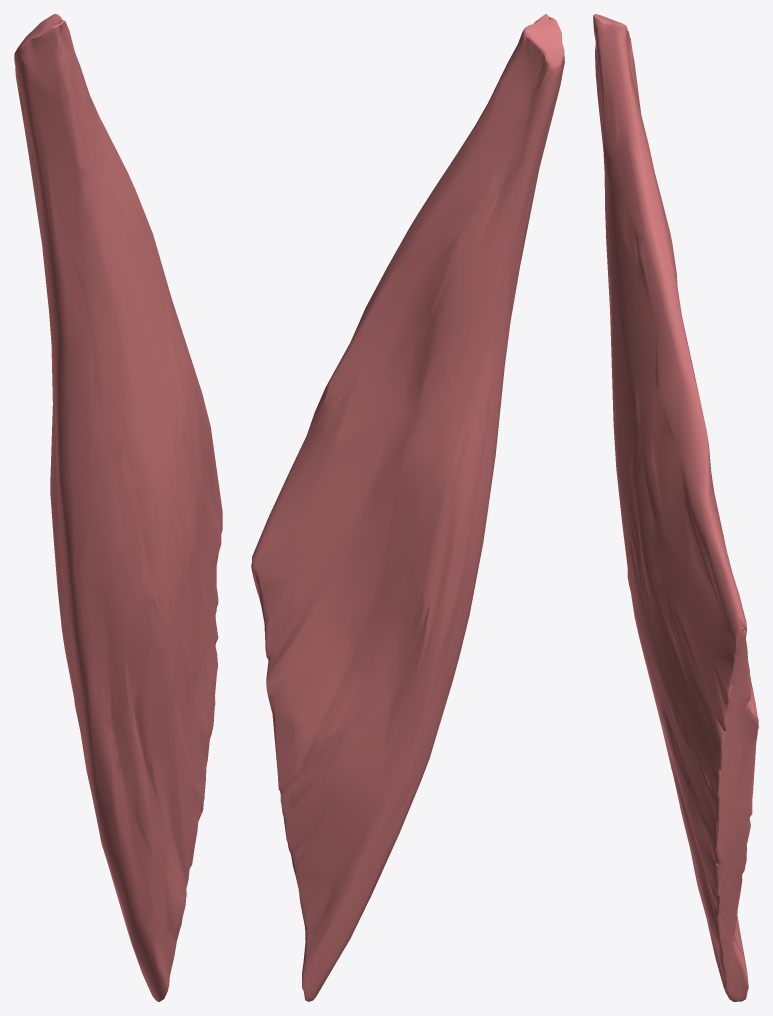
3 renders of one model, left to right at view 1: azimuth 30°, elevation 25°; view 2: azimuth 150°, elevation 25°; view 3: azimuth 270°, elevation 25°, orthographic. The views are drawn at different scales.
Visible parts, largest first — view 1: FJ1402M; view 2: FJ1402M; view 3: FJ1402M.
Part boxes in pixels (<box>): FJ1402M: <box>14,14,222,1001</box>; FJ1402M: <box>251,14,564,1001</box>; FJ1402M: <box>593,14,758,1001</box>.
Size of the model in its own units: 0.0767 by 0.2879 by 0.0473.
